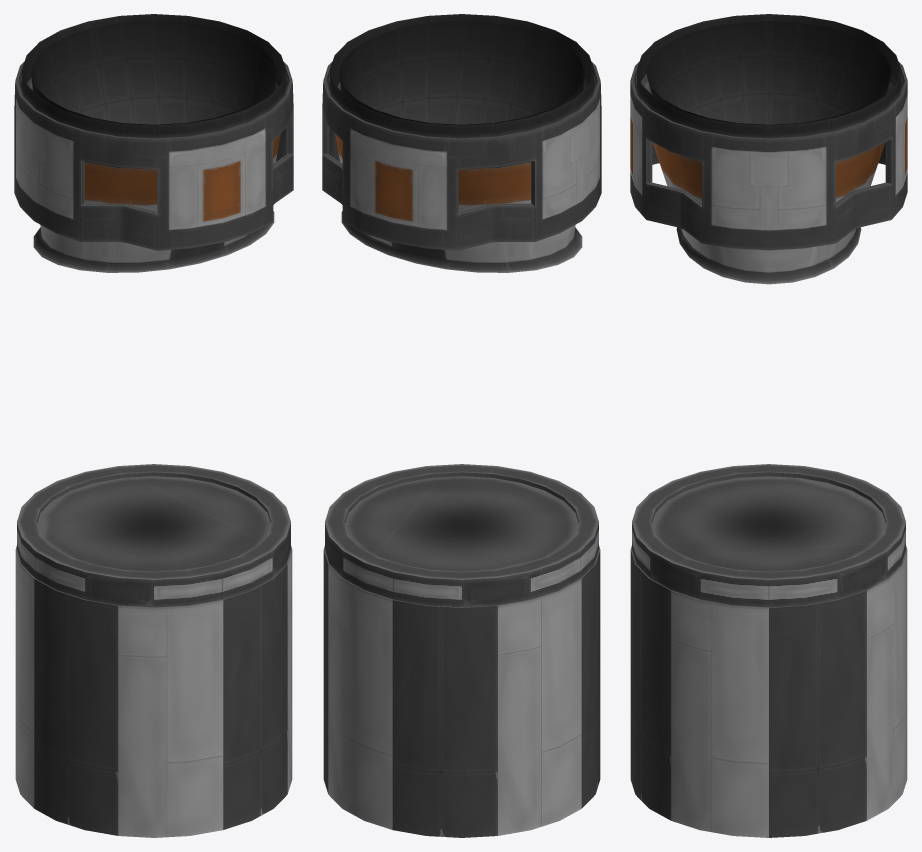
Rendered from LR87_Mod1.dae.
The picture shows the model from 3 angles, left to right: view 1: azimuth 30°, elevation 25°; view 2: azimuth 150°, elevation 25°; view 3: azimuth 270°, elevation 25°; orthographic projection.
Parts seen in each view (by area): view 1: fairing, Titan1_Fairing, LR_87_Titan8_polySurface5, Titan3_Fairing, Titan4_Fairing; view 2: fairing, Titan1_Fairing, LR_87_Titan8_polySurface5, Titan3_Fairing, Titan4_Fairing; view 3: fairing, Titan1_Fairing, LR_87_Titan8_polySurface5, Titan3_Fairing, Titan4_Fairing.
Boxes of the visible parts, x1=… form: fairing: x1=15, y1=546, x2=292, y2=837; Titan1_Fairing: x1=14, y1=14, x2=293, y2=250; LR_87_Titan8_polySurface5: x1=17, y1=464, x2=290, y2=607; Titan3_Fairing: x1=19, y1=21, x2=288, y2=138; Titan4_Fairing: x1=18, y1=67, x2=289, y2=272; fairing: x1=323, y1=546, x2=600, y2=837; Titan1_Fairing: x1=322, y1=14, x2=601, y2=250; LR_87_Titan8_polySurface5: x1=325, y1=464, x2=598, y2=607; Titan3_Fairing: x1=327, y1=21, x2=596, y2=138; Titan4_Fairing: x1=326, y1=67, x2=597, y2=272; fairing: x1=630, y1=546, x2=907, y2=837; Titan1_Fairing: x1=630, y1=14, x2=907, y2=250; LR_87_Titan8_polySurface5: x1=632, y1=464, x2=905, y2=607; Titan3_Fairing: x1=634, y1=21, x2=903, y2=138; Titan4_Fairing: x1=633, y1=67, x2=904, y2=284.
Bounding box in the file's own units: 1.9 × 5.37 × 1.9.
